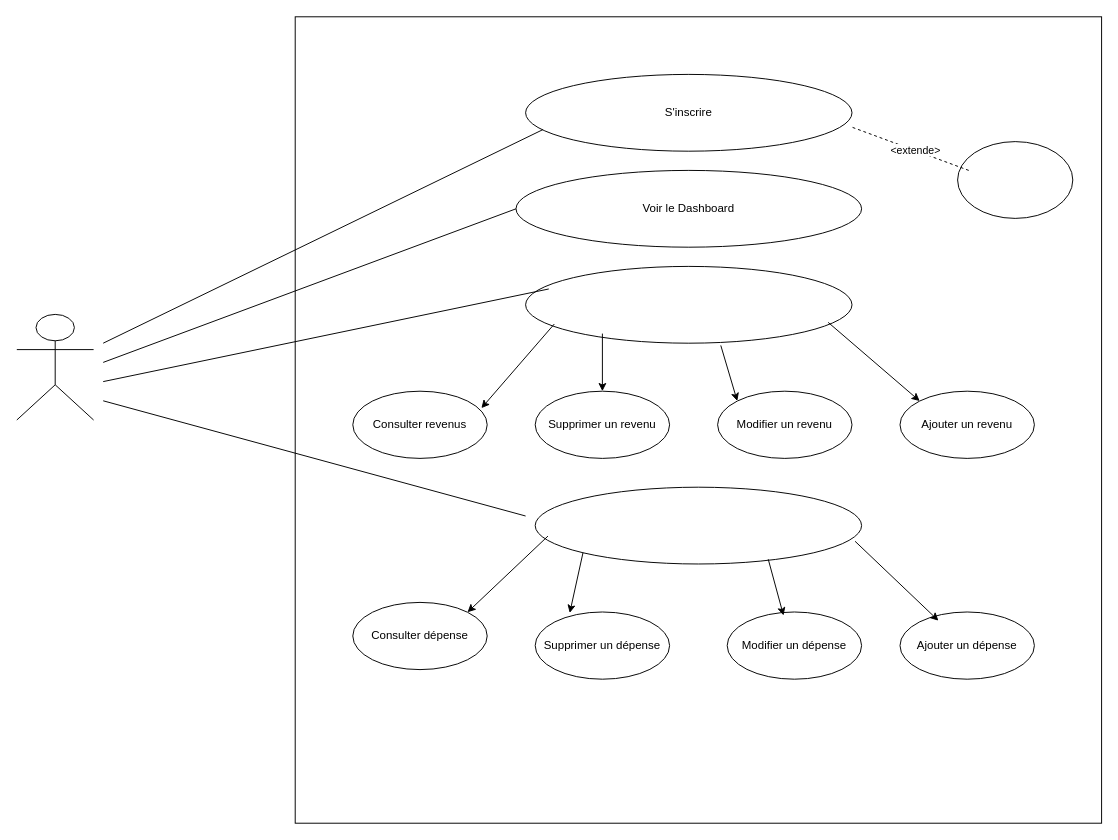
Image size: 1118x840. Some labels were removed from this diagram. Each missing label, with the box of its shape:
gerer un dépense: (534, 486, 862, 564)
gerer un revenu: (525, 265, 852, 343)
Se connecter: (957, 141, 1073, 218)
utilisateur: (16, 313, 94, 420)
